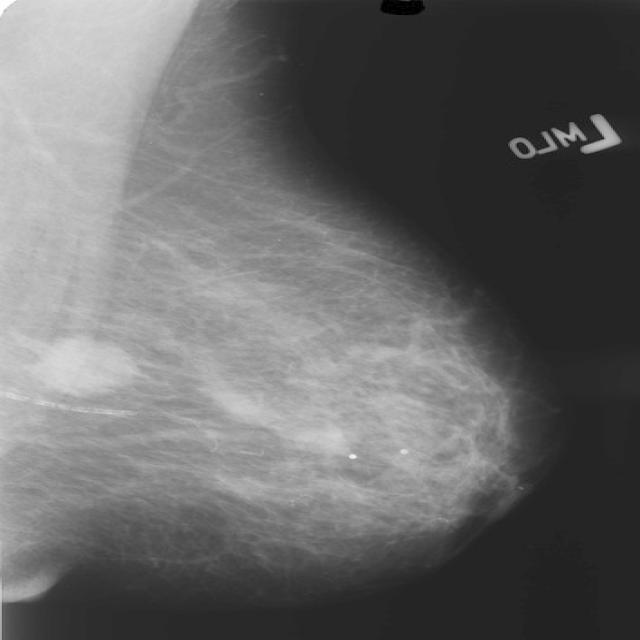tumour: (29, 334, 134, 395)
